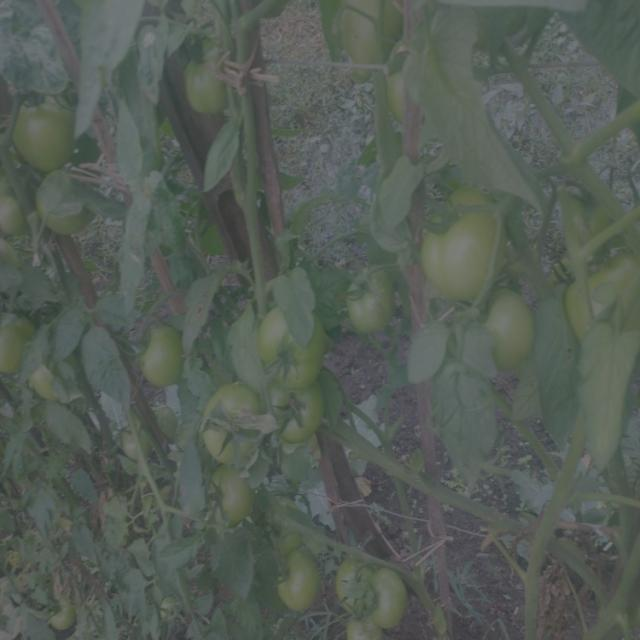tomato: (411, 182, 502, 300), (250, 295, 330, 387), (7, 84, 89, 173), (462, 288, 541, 367), (194, 385, 268, 466), (330, 1, 416, 69), (171, 38, 241, 117), (125, 320, 189, 395), (33, 166, 96, 240), (339, 263, 399, 337), (268, 381, 331, 447), (564, 266, 616, 341), (272, 553, 325, 621), (203, 471, 258, 531), (564, 178, 616, 240), (1, 308, 37, 385), (369, 570, 416, 626), (334, 551, 378, 610), (109, 423, 164, 468), (262, 506, 306, 556), (1, 187, 27, 242), (343, 610, 382, 640)
